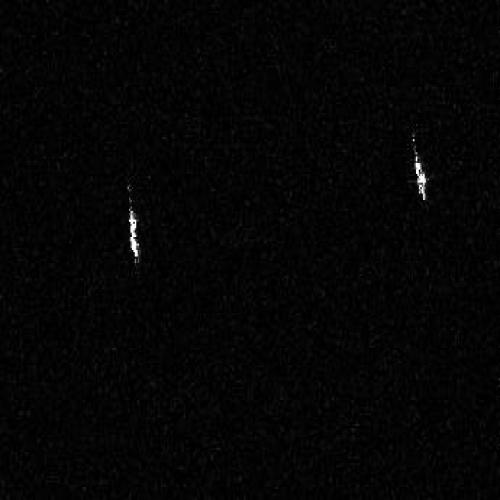ship: (412, 146, 428, 203), (128, 204, 142, 263)
